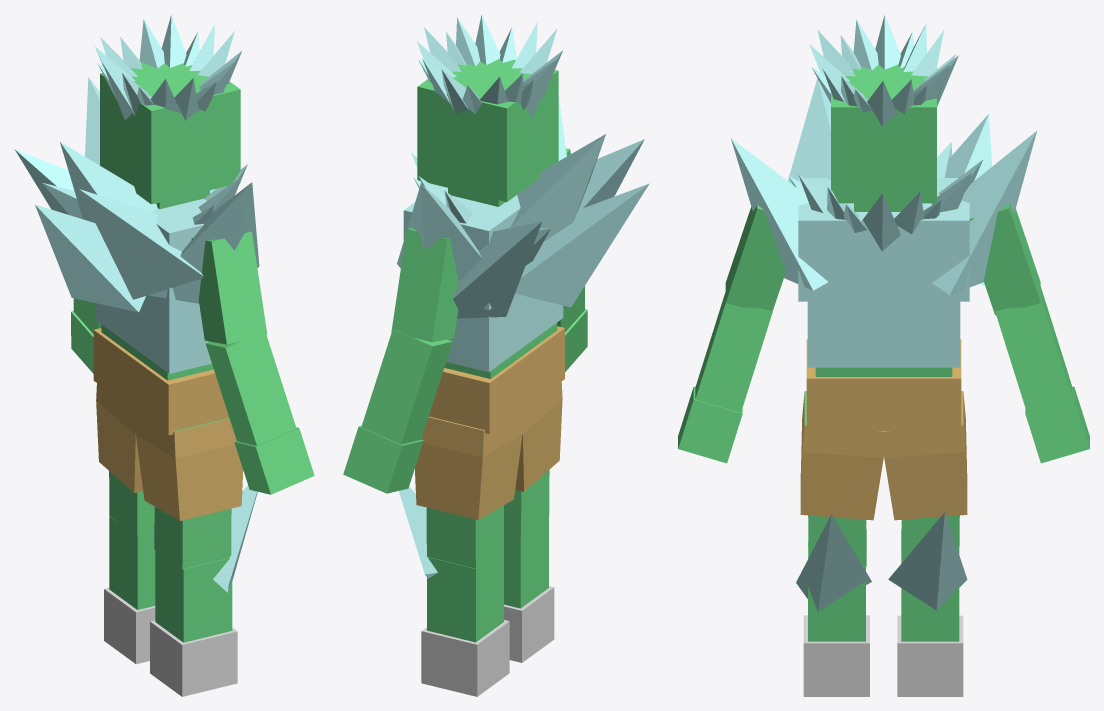
File: crystal_defence_goblin.fbx
3 views of the same model, side by side, from view 1: azimuth 30°, elevation 25°; view 2: azimuth 150°, elevation 25°; view 3: azimuth 270°, elevation 25° (orthographic). The views are drawn at different scales.
Parts seen in each view (by area): view 1: Cube.197, Cube.205, Cube.208, Cube.200, Cube.195, Cube.196, Cube.198, Cube.215, Cube.221, Cube.207, Cube.201, Cube.204 (+20 smaller); view 2: Cube.197, Cube.207, Cube.208, Cube.215, Cube.209, Cube.210, Cube.204, Cube.205, Cube.221, Cube.202, Cube.193, Cube.192 (+17 smaller); view 3: Cube.211, Cube.197, Cube.221, Cube.208, Cube.205, Cube.207, Cube.209, Cube.200, Cube.216, Cube.194, Cube.196, Cube.210 (+17 smaller).
Boxes of the visible parts, x1,y1,x2,y2 form: Cube.197: (100, 63, 240, 204); Cube.205: (135, 411, 243, 569); Cube.208: (93, 328, 229, 435); Cube.200: (205, 335, 296, 445); Cube.195: (79, 189, 203, 299); Cube.196: (191, 231, 267, 344); Cube.198: (155, 550, 232, 642); Cube.215: (35, 204, 145, 312); Cube.221: (95, 295, 211, 373); Cube.207: (96, 383, 154, 536); Cube.201: (150, 620, 237, 696); Cube.204: (109, 516, 155, 609); Cube.197: (417, 59, 558, 201); Cube.207: (415, 411, 523, 568); Cube.208: (428, 326, 564, 433); Cube.215: (515, 183, 649, 307); Cube.209: (361, 329, 452, 444); Cube.210: (391, 228, 458, 342); Cube.204: (427, 549, 503, 642); Cube.205: (504, 382, 562, 535); Cube.221: (446, 293, 563, 372); Cube.202: (421, 620, 509, 696); Cube.193: (453, 221, 542, 318); Cube.192: (510, 134, 605, 241); Cube.211: (798, 178, 969, 301); Cube.197: (831, 64, 936, 203); Cube.221: (807, 301, 960, 367); Cube.208: (806, 339, 961, 430); Cube.205: (800, 391, 885, 566); Cube.207: (882, 391, 967, 563); Cube.209: (995, 286, 1072, 412); Cube.200: (695, 292, 772, 412); Cube.216: (932, 130, 1037, 294); Cube.194: (731, 138, 828, 290); Cube.196: (725, 205, 785, 311); Cube.210: (969, 203, 1040, 315).
Size of the model in its own units: 262 by 709 by 417.
